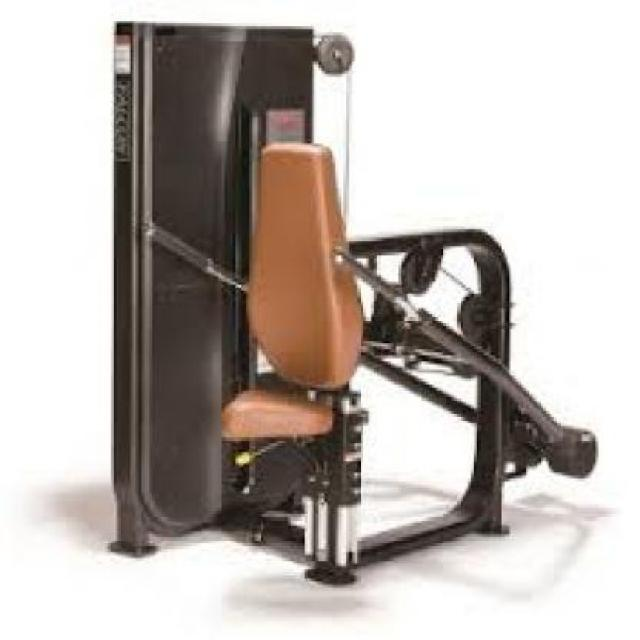seated dip machine: (93, 11, 604, 598)
